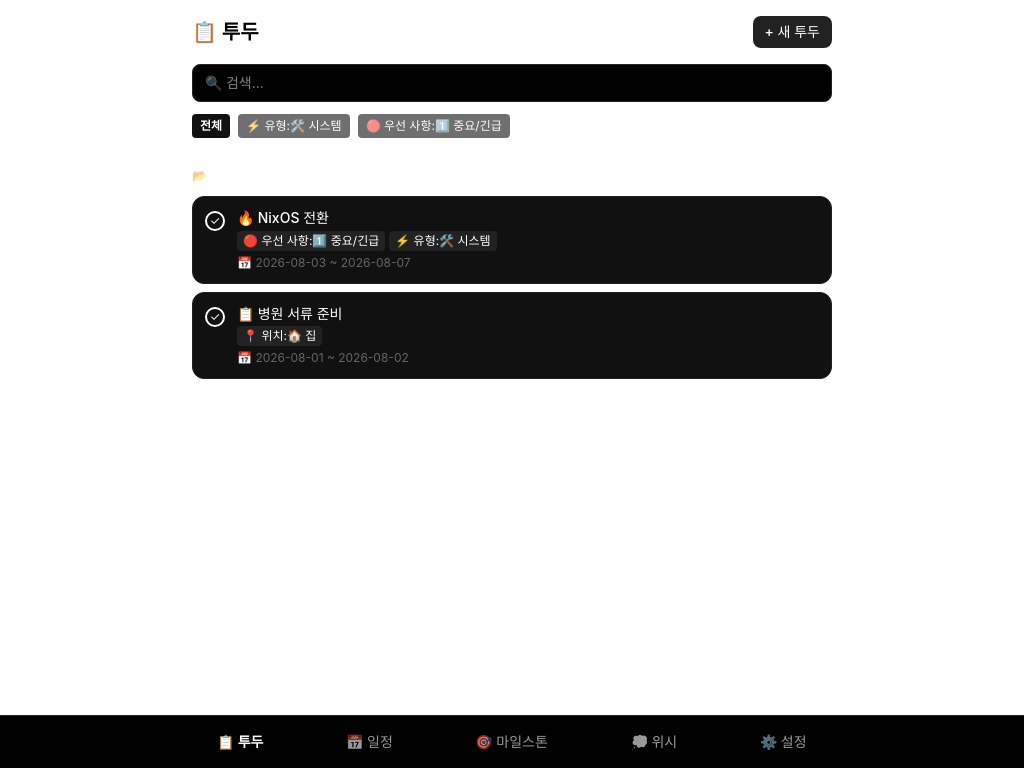
Scenario: TodoPage › shows create form when clicking + 새 투두
The image size is (1024, 768).
Click the button "+ 새 투두" at (792, 32), box [752, 16, 832, 48]
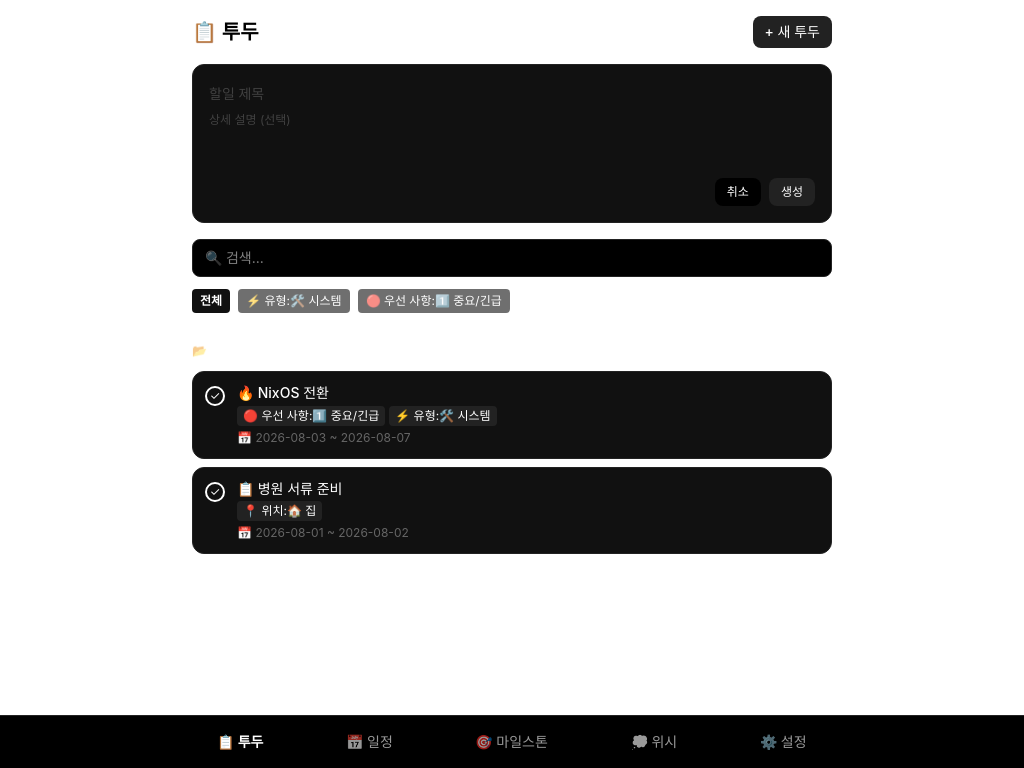
Check: the field with placeholder "할일 제목" is shown, box [209, 84, 815, 104]
